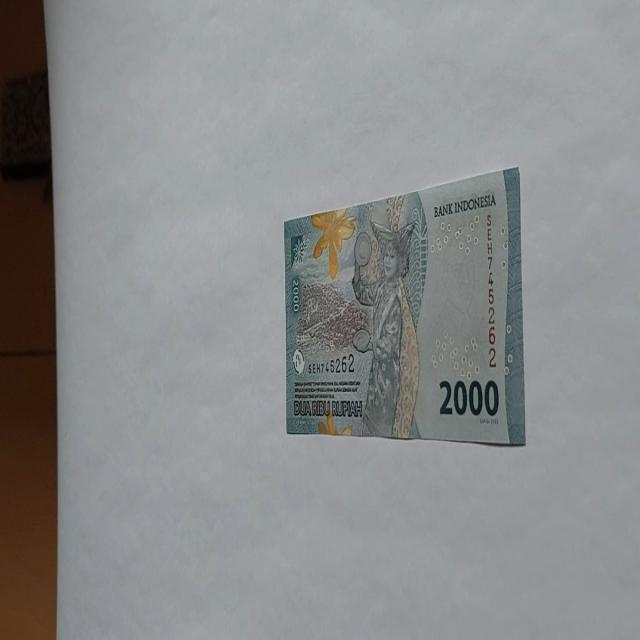dua ribu rupiah: (282, 165, 526, 446), (350, 218, 420, 438)
